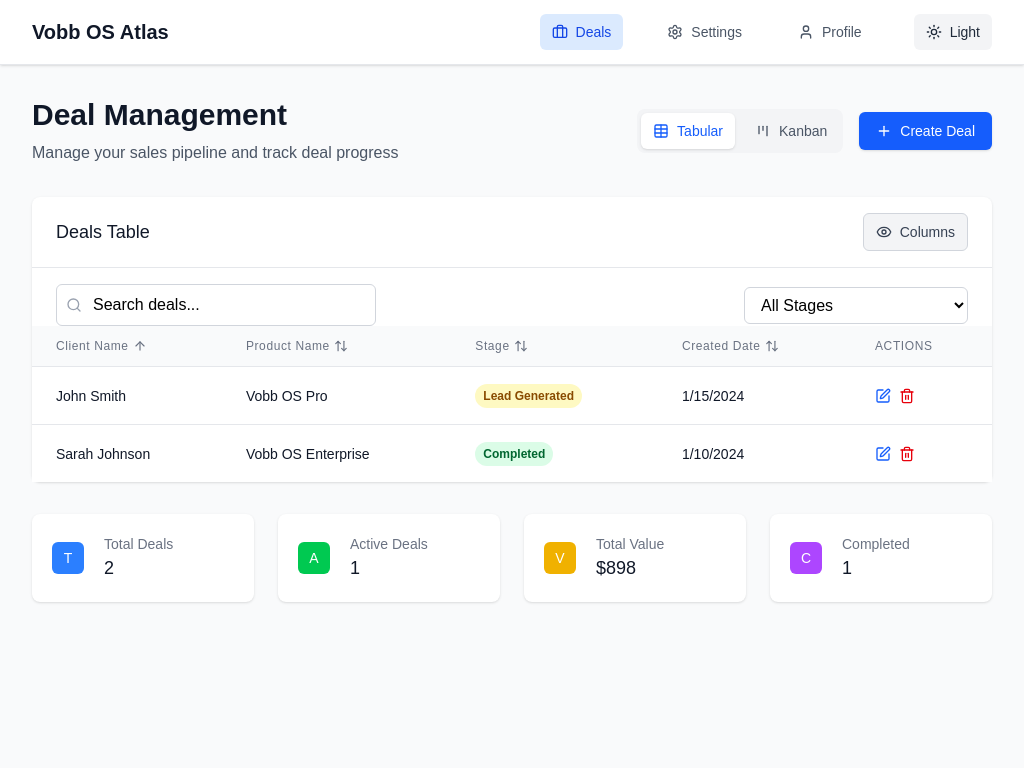
DealsPage Integration › opens create deal modal when create button is clicked
Click the button "Create Deal" at (926, 131), box left=859, top=112, right=992, bottom=150
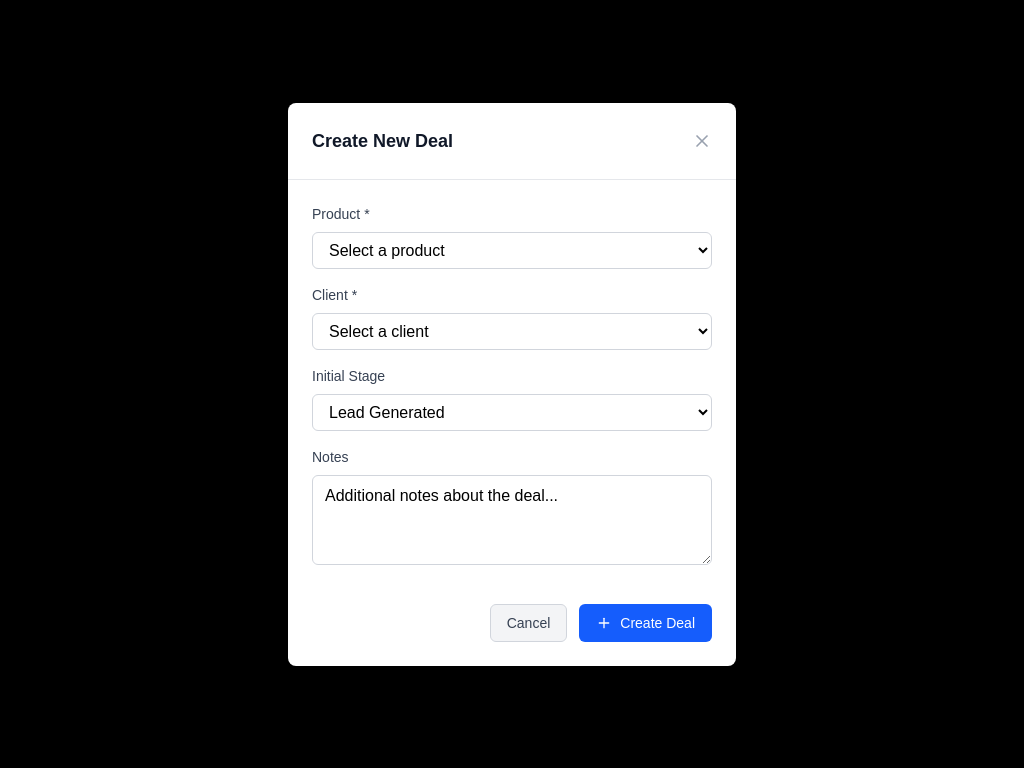
Expected: the heading "Create New Deal" is shown, left=312, top=126, right=453, bottom=154
Expected: the text "Product *" is shown, left=312, top=206, right=370, bottom=222
Expected: the text "Client *" is shown, left=312, top=286, right=357, bottom=302
